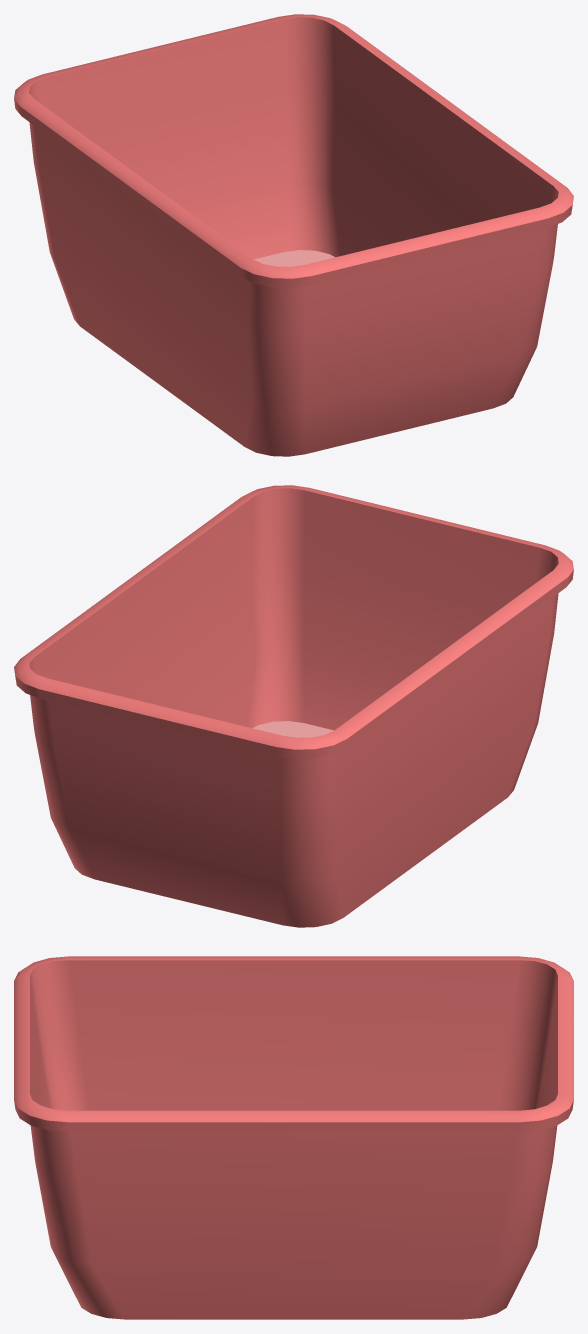
The model's file is Bowl.fbx.
3 renders of one model, top to bottom at view 1: azimuth 30°, elevation 25°; view 2: azimuth 150°, elevation 25°; view 3: azimuth 270°, elevation 25°, orthographic. The views are drawn at different scales.
Parts seen in each view (by area): view 1: Bowl; view 2: Bowl; view 3: Bowl.
Part boxes in pixels (bbox=[...]): Bowl: bbox=[14, 14, 573, 456]; Bowl: bbox=[14, 485, 573, 927]; Bowl: bbox=[14, 956, 573, 1319].
Bounding box in the file's own units: 8.7 × 5.4 × 12.54.
Materials: 1 (1 with a texture image).
